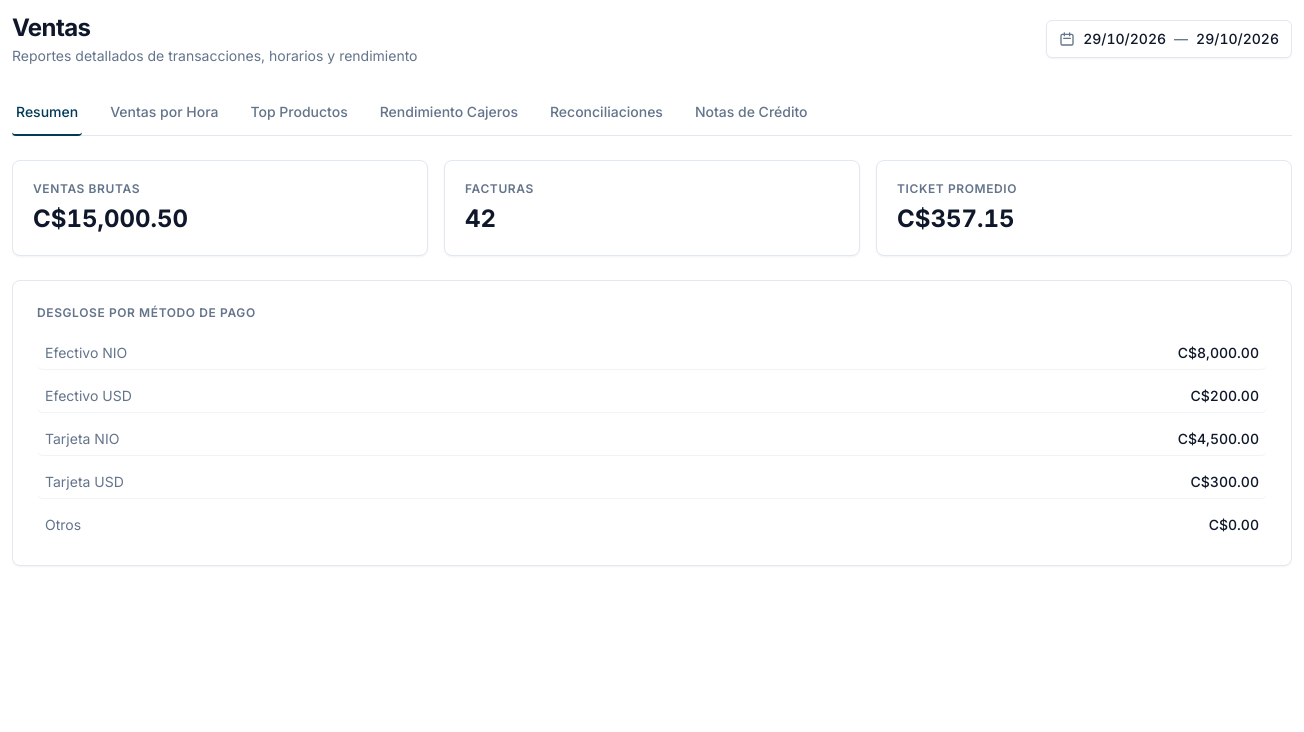
Test case: W2 — SalesPage › switches to cashiers tab
Click the button "Rendimiento Cajeros": coordinates (449, 113) [376,90,522,136]
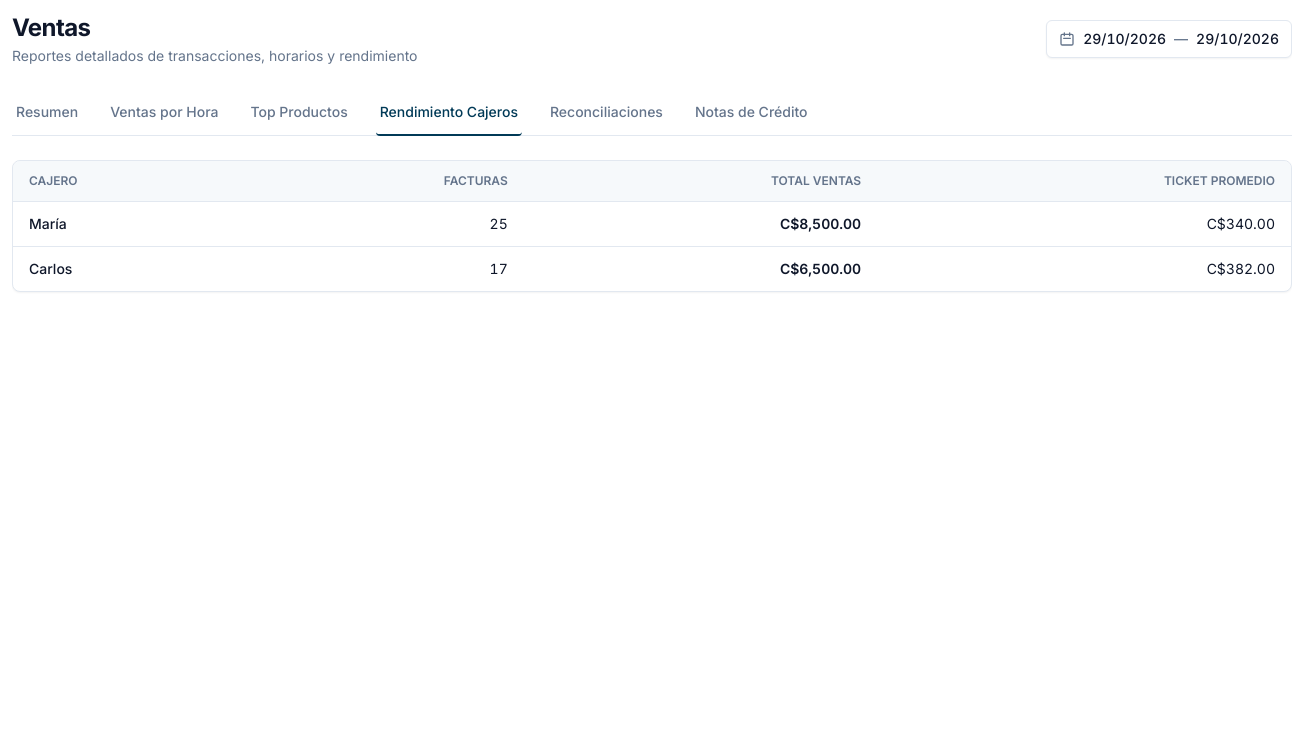
Now the text "María" is shown, box [13,202,246,246]
Now the text "Carlos" is shown, box [13,246,246,291]
